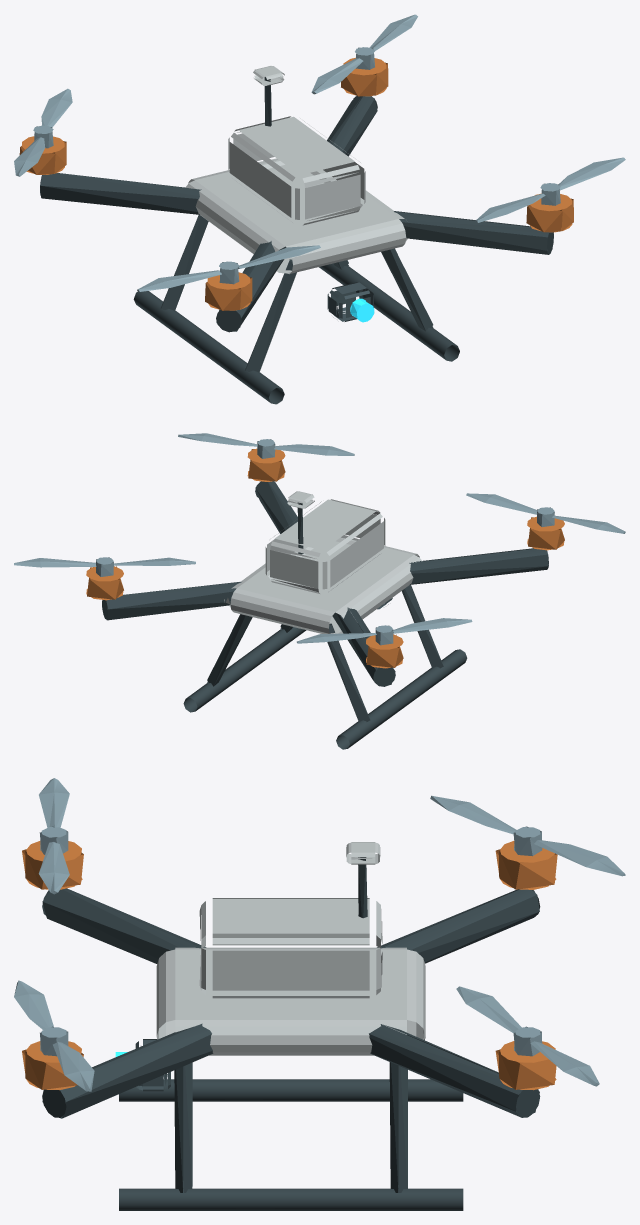
Rendered from CameraDrone.glb.
3 renders of one model, top to bottom at view 1: azimuth 30°, elevation 25°; view 2: azimuth 150°, elevation 25°; view 3: azimuth 270°, elevation 25°, orthographic. The views are drawn at different scales.
Visible parts, largest first — view 1: Airframe, Rotor_2, Rotor_1, Rotor_3, Rotor_4, Camera_gimbal; view 2: Airframe, Rotor_4, Rotor_2, Rotor_3, Rotor_1; view 3: Airframe, Rotor_4, Rotor_3, Rotor_2, Rotor_1.
Boxes of the visible parts, bbox=[...] form: Airframe: bbox=[19, 57, 573, 404]; Rotor_2: bbox=[475, 157, 625, 222]; Rotor_1: bbox=[137, 245, 320, 292]; Rotor_3: bbox=[311, 14, 417, 94]; Rotor_4: bbox=[14, 88, 72, 176]; Camera_gimbal: bbox=[327, 282, 374, 322]; Airframe: bbox=[86, 448, 564, 749]; Rotor_4: bbox=[297, 618, 472, 645]; Rotor_2: bbox=[178, 433, 354, 458]; Rotor_3: bbox=[14, 557, 195, 576]; Rotor_1: bbox=[466, 493, 625, 533]; Airframe: bbox=[22, 841, 557, 1210]; Rotor_4: bbox=[430, 795, 625, 876]; Rotor_3: bbox=[456, 986, 599, 1086]; Rotor_2: bbox=[14, 980, 94, 1091]; Rotor_1: bbox=[38, 778, 69, 894].
Bounding box in the file's own units: 0.6844 × 0.316 × 0.5684.
